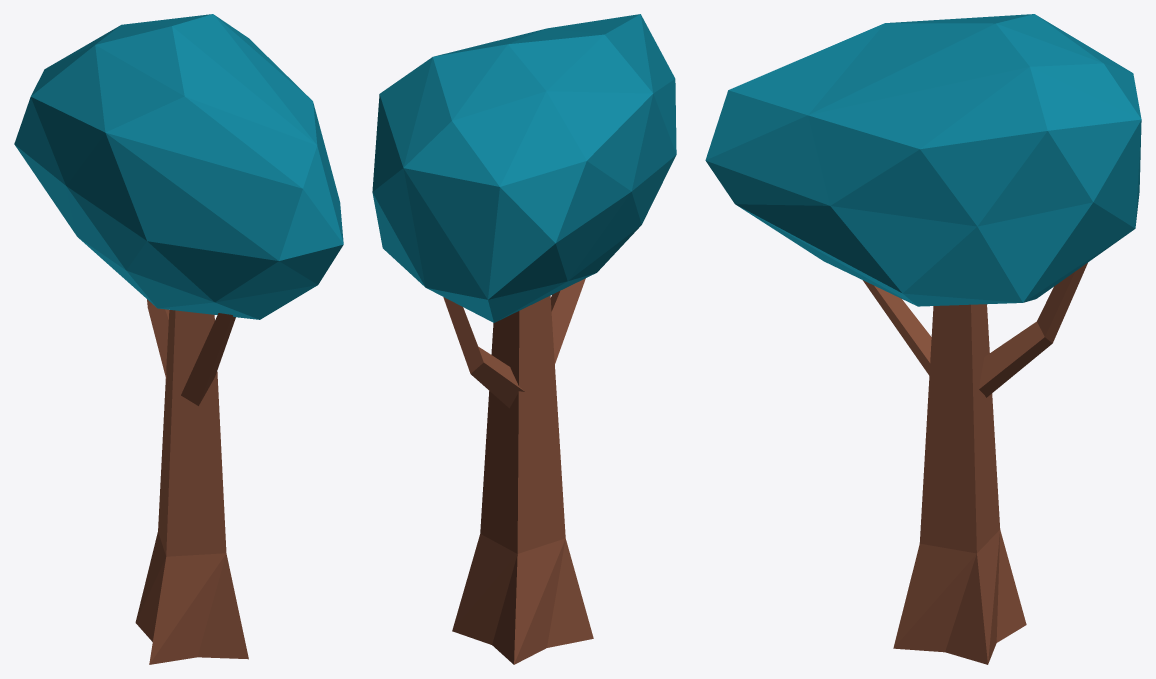
Rendered from Tree_37_summer_blue_mat.fbx.
3 renders of one model, left to right at view 1: azimuth 30°, elevation 25°; view 2: azimuth 150°, elevation 25°; view 3: azimuth 270°, elevation 25°, orthographic.
Parts seen in each view (by area): view 1: Tree_37_summer_blue_mat; view 2: Tree_37_summer_blue_mat; view 3: Tree_37_summer_blue_mat.
Part boxes in pixels (x1,y1,x2,y2): Tree_37_summer_blue_mat: (14, 14, 343, 664); Tree_37_summer_blue_mat: (372, 14, 676, 664); Tree_37_summer_blue_mat: (705, 14, 1141, 664).
Size of the model in its own units: 93.74 by 233 by 151.
